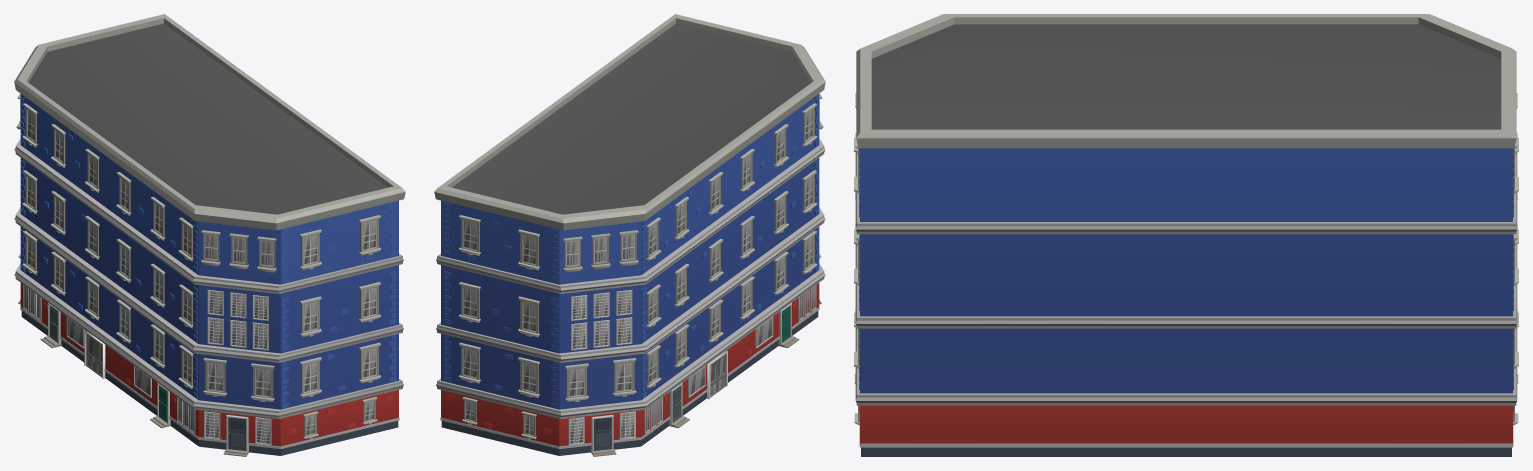
The model's file is Building_25_6_B.fbx.
3 views of the same model, side by side, from view 1: azimuth 30°, elevation 25°; view 2: azimuth 150°, elevation 25°; view 3: azimuth 270°, elevation 25° (orthographic). The views are drawn at different scales.
Visible parts, largest first — view 1: Building_25_6_B; view 2: Building_25_6_B; view 3: Building_25_6_B.
Boxes of the visible parts, left/top/right/bottom form: Building_25_6_B: left=14, top=14, right=405, bottom=456; Building_25_6_B: left=434, top=14, right=825, bottom=456; Building_25_6_B: left=854, top=14, right=1518, bottom=456.
Bounding box in the file's own units: 1291 × 1596 × 2941.
